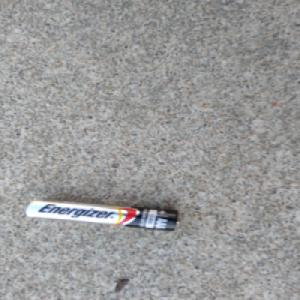Battery: (21, 197, 182, 233)
